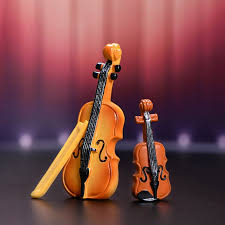Violin: (113, 90, 188, 214)
